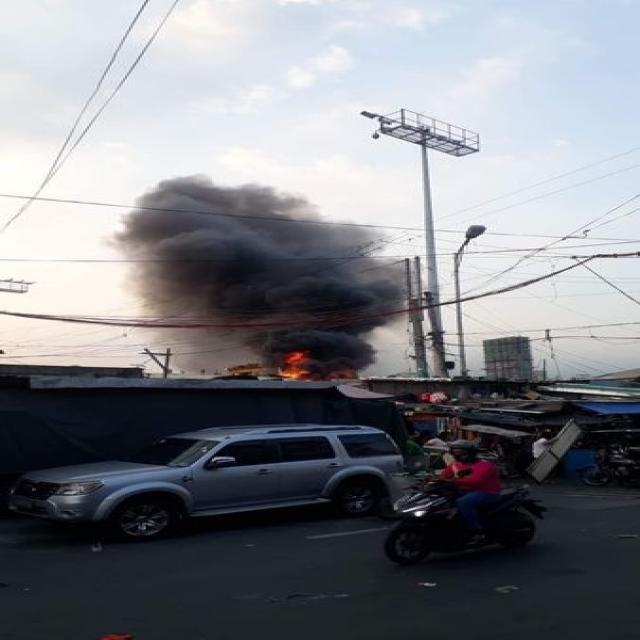Fire: (279, 349, 348, 382)
Smoke: (117, 170, 406, 379)
